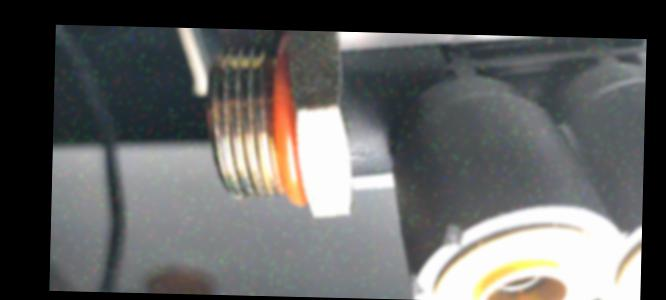bump: (432, 217, 469, 255), (401, 268, 433, 299)
joint line: (370, 148, 394, 157)
white mark: (348, 150, 361, 163)
